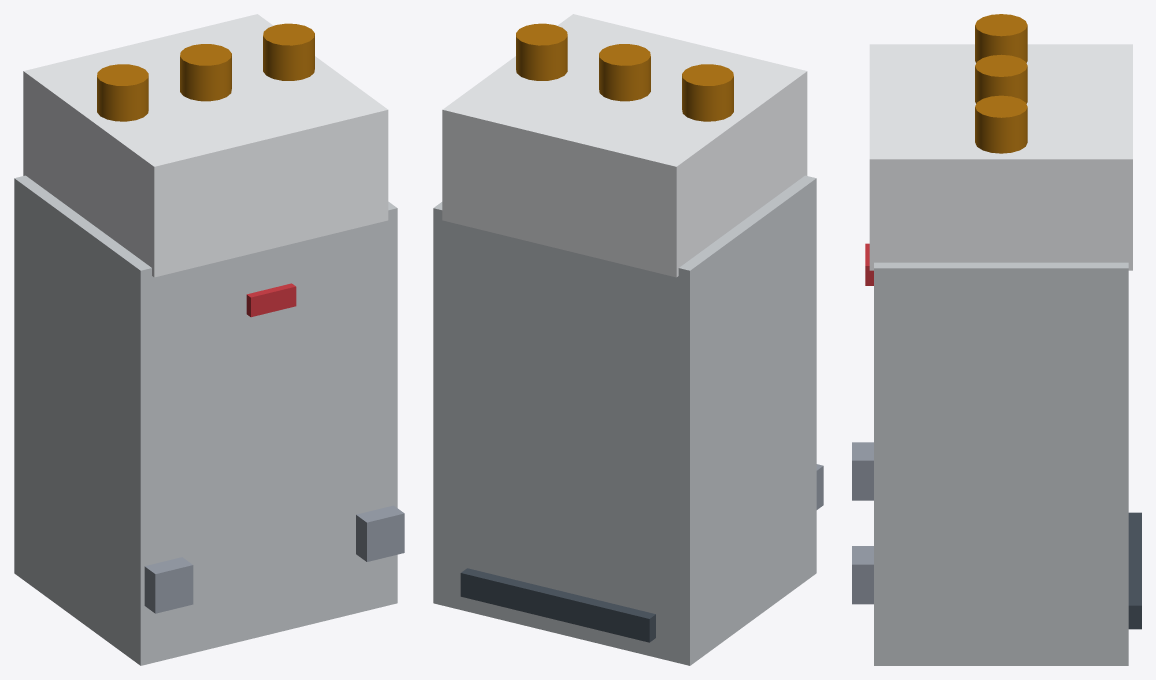
Rendered from contactor.glb.
3 renders of one model, left to right at view 1: azimuth 30°, elevation 25°; view 2: azimuth 150°, elevation 25°; view 3: azimuth 270°, elevation 25°, orthographic.
Bounding box in the file's own units: 0.68 × 1.35 × 0.66.
